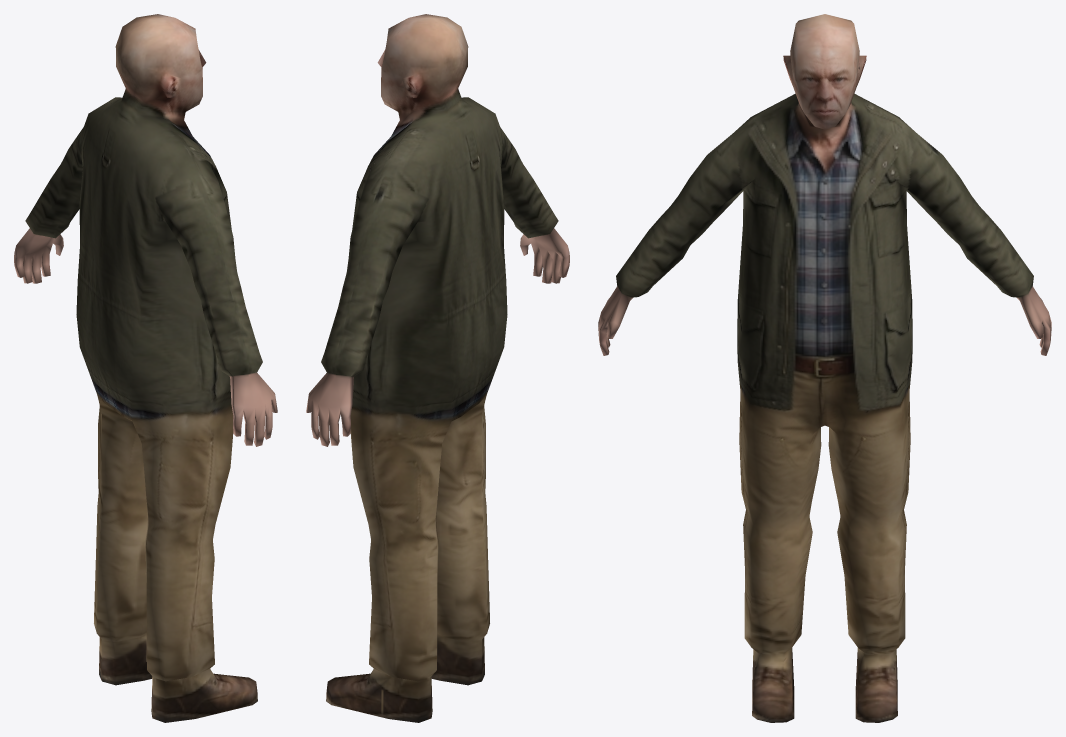
Rendered from Character_Male_43.fbx.
3 renders of one model, left to right at view 1: azimuth 30°, elevation 25°; view 2: azimuth 150°, elevation 25°; view 3: azimuth 270°, elevation 25°, orthographic.
Visible parts, largest first — view 1: Character_Male_43; view 2: Character_Male_43; view 3: Character_Male_43.
Boxes of the visible parts, bbox=[...] form: Character_Male_43: bbox=[14, 14, 277, 722]; Character_Male_43: bbox=[306, 14, 569, 722]; Character_Male_43: bbox=[598, 14, 1051, 722].
Size of the model in its own units: 0.3531 by 1.74 by 1.07.
